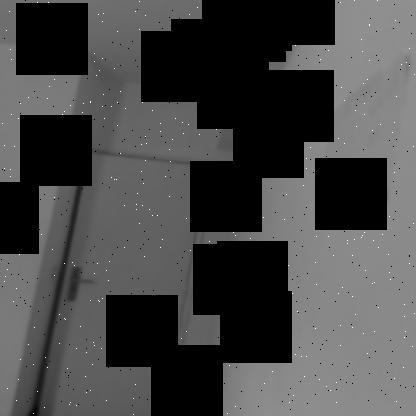Porte: (28, 145, 222, 415)
